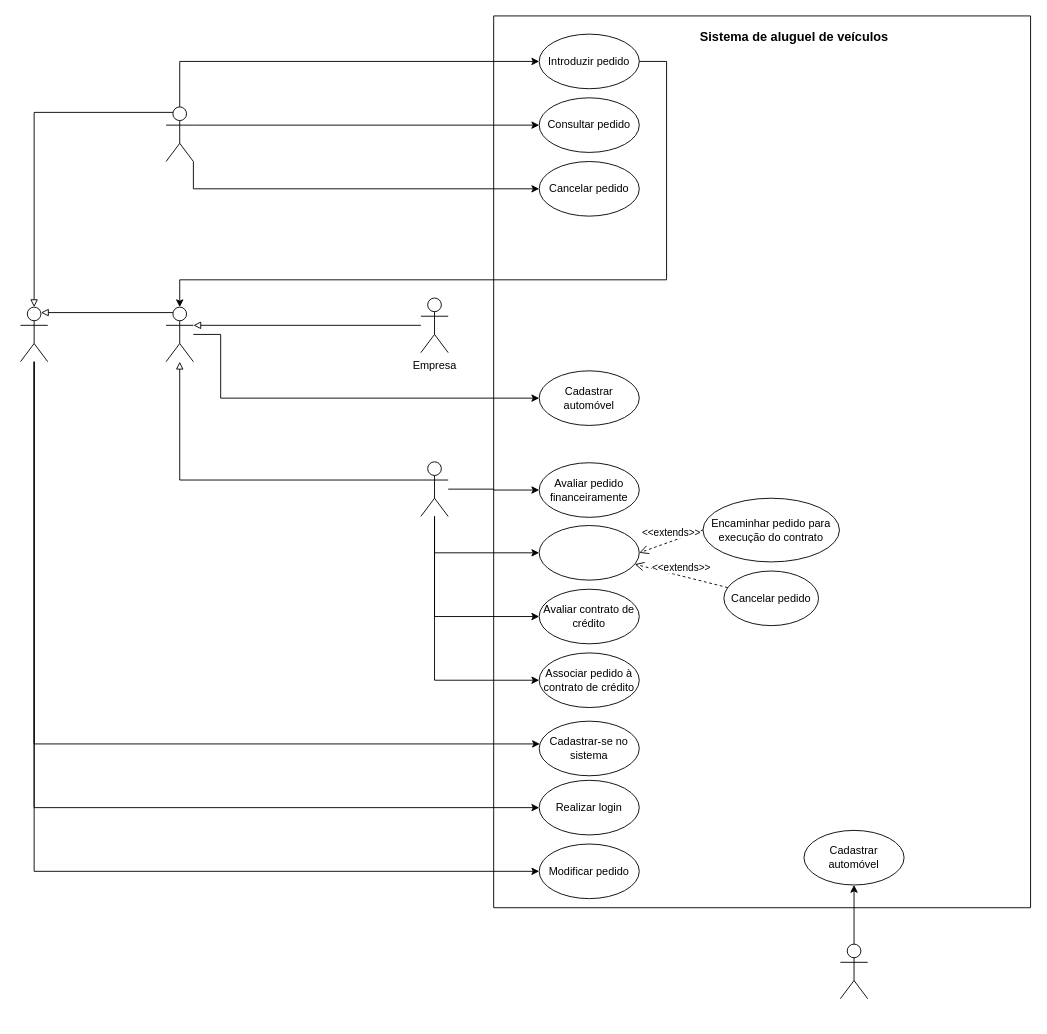
The diagram is 1047 pixels wide and 1034 high, and some of its shapes have lost their labels. Each missing label, with the box of its shape:
Agente: (165, 306, 193, 362)
Banco: (420, 461, 448, 516)
Cliente: (839, 943, 868, 999)
Contratante: (165, 106, 193, 162)
Registrar parecer do pedido: (538, 525, 639, 580)
Usuário: (20, 306, 48, 362)
